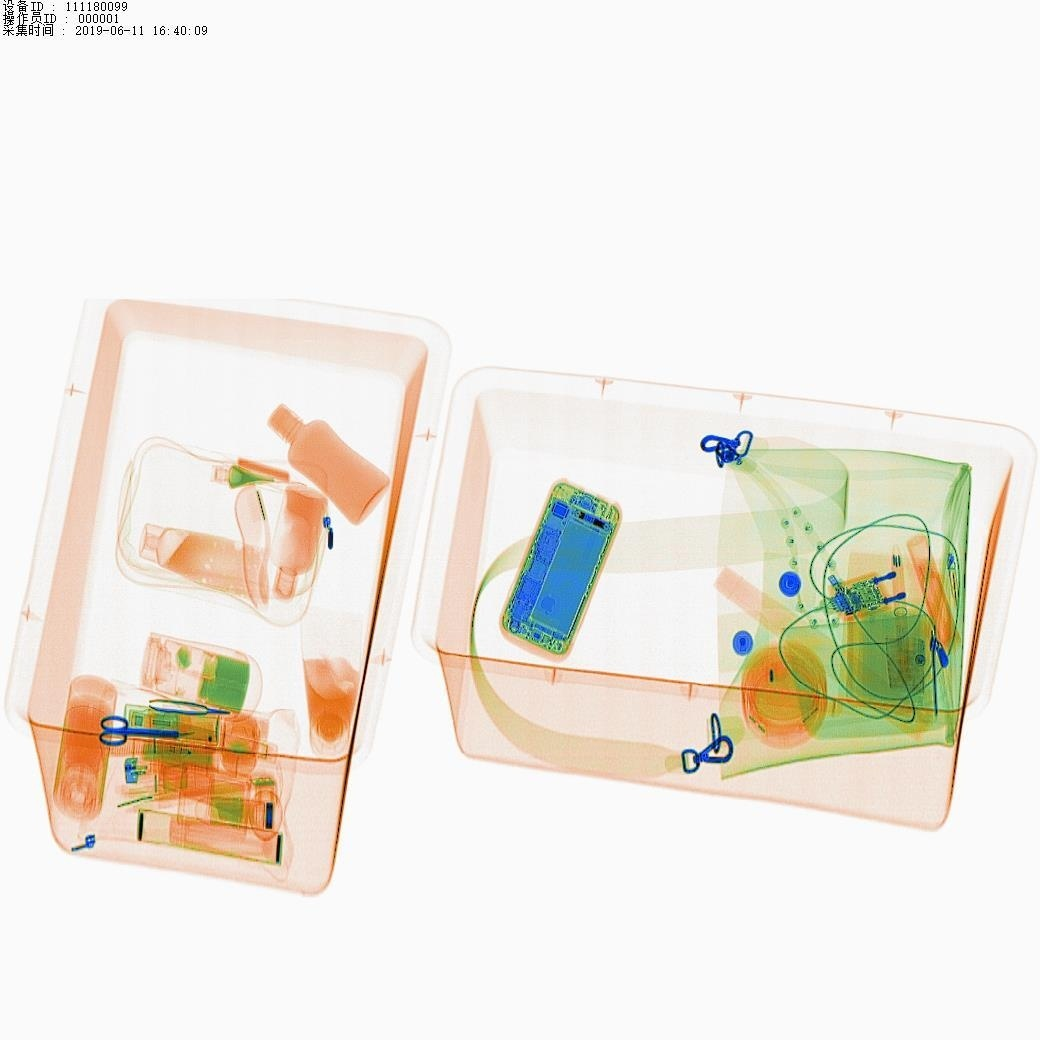NonmetallicFire: (100, 750, 250, 794)
